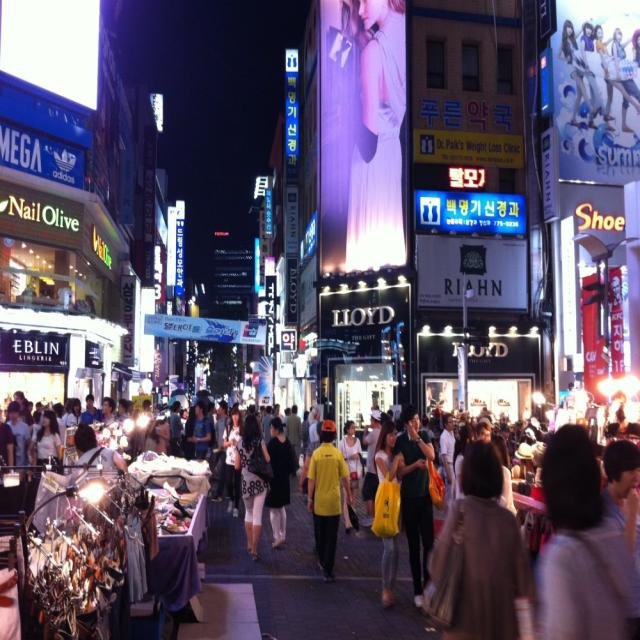body: (528, 418, 638, 639), (418, 437, 534, 639), (325, 0, 408, 274), (530, 7, 640, 192), (464, 370, 638, 438), (391, 404, 436, 610), (596, 434, 640, 640), (371, 416, 407, 608), (232, 411, 271, 563), (3, 272, 106, 324), (298, 420, 327, 555), (264, 415, 292, 549), (526, 438, 552, 582), (71, 421, 131, 483), (337, 419, 363, 531), (221, 406, 245, 519), (362, 408, 384, 528), (489, 432, 518, 520), (27, 408, 63, 474), (5, 399, 32, 482), (210, 398, 231, 504), (298, 406, 322, 495), (0, 395, 13, 540), (438, 411, 457, 507), (452, 424, 475, 501), (185, 399, 212, 462), (425, 380, 464, 417), (51, 401, 68, 475), (4, 390, 34, 426), (205, 400, 218, 482), (286, 403, 304, 462), (598, 418, 640, 443), (510, 442, 536, 481), (168, 399, 184, 458), (180, 404, 195, 465), (79, 392, 105, 425), (114, 398, 132, 444), (153, 410, 171, 456), (507, 438, 523, 485), (260, 404, 276, 449), (385, 396, 405, 431), (65, 395, 84, 429), (25, 400, 43, 435), (368, 388, 386, 423), (248, 403, 263, 440), (596, 444, 606, 495), (301, 409, 310, 464), (99, 396, 118, 422), (154, 388, 172, 415), (418, 412, 434, 441), (282, 406, 292, 438), (354, 404, 365, 431), (271, 402, 285, 420), (279, 382, 290, 404), (63, 396, 73, 420), (452, 418, 464, 438), (255, 403, 265, 425), (125, 398, 135, 418), (126, 397, 136, 417), (142, 398, 152, 414), (238, 406, 248, 422), (44, 398, 55, 412), (81, 401, 89, 415), (226, 402, 233, 415), (308, 404, 314, 418), (35, 401, 44, 410)
